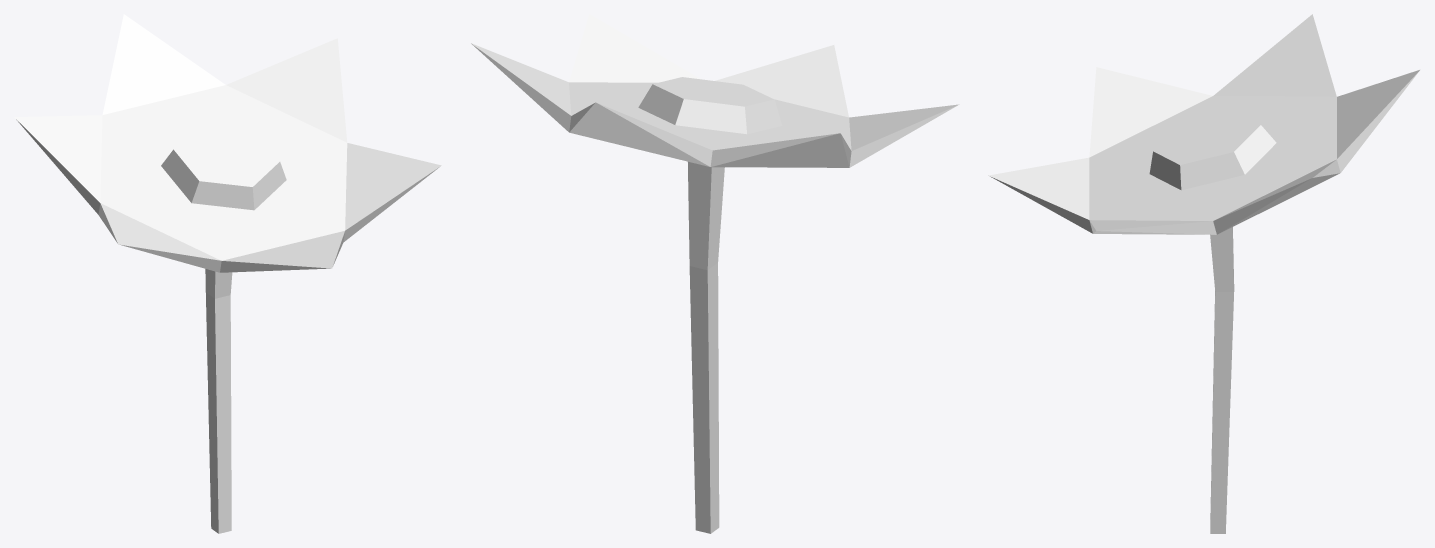
File: Env_Flowers_01.glb
The picture shows the model from 3 angles, left to right: view 1: azimuth 30°, elevation 25°; view 2: azimuth 150°, elevation 25°; view 3: azimuth 270°, elevation 25°; orthographic projection. The views are drawn at different scales.
Parts seen in each view (by area): view 1: Env_Flowers_01; view 2: Env_Flowers_01; view 3: Env_Flowers_01.
Part boxes in pixels (left/top/right/bottom): Env_Flowers_01: left=14, top=14, right=441, bottom=533; Env_Flowers_01: left=471, top=14, right=959, bottom=533; Env_Flowers_01: left=988, top=14, right=1419, bottom=533.
Size of the model in its own units: 0.2458 by 0.3224 by 0.274.
Materials: 1 (1 with a texture image).
